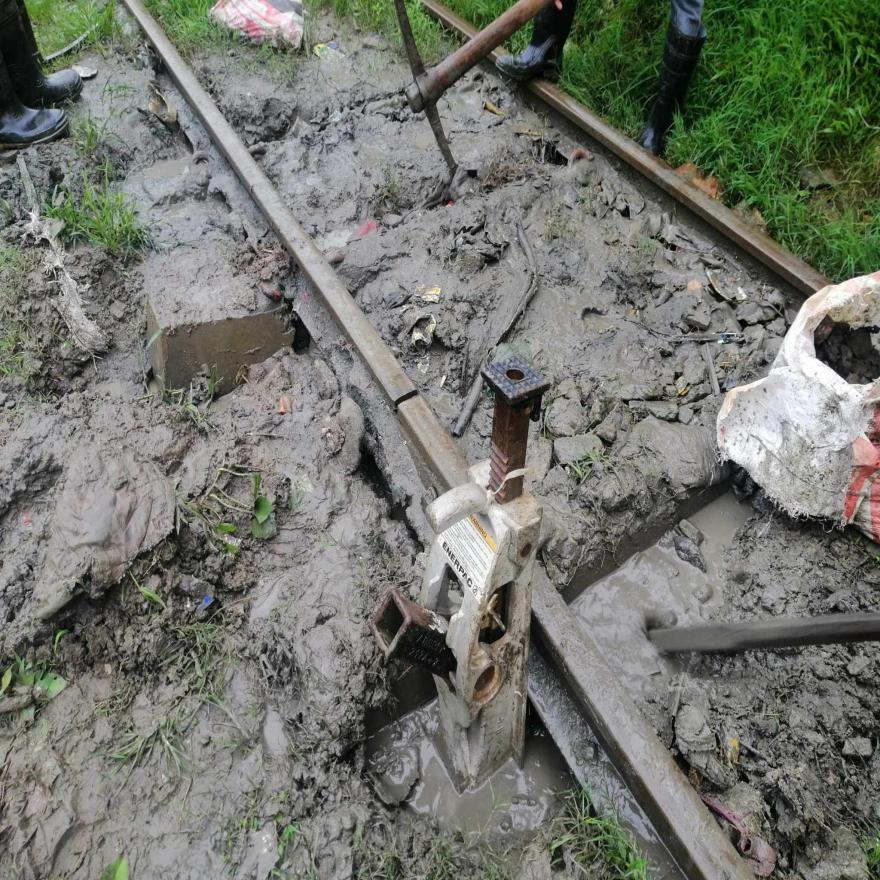railway-gap: (375, 358, 437, 439)
